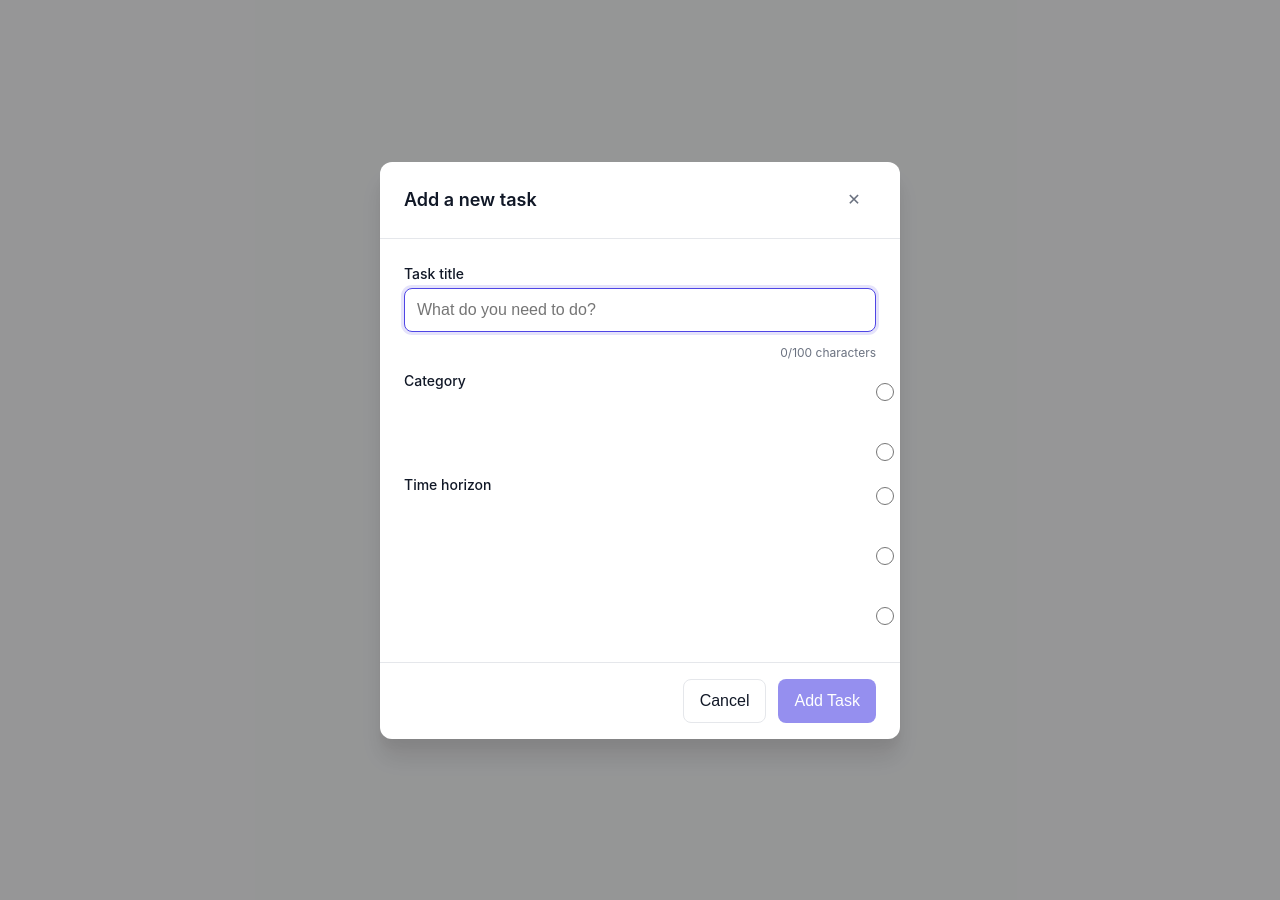
it: CreateTaskModal — submission › shows API error message on failure
Type "Test task title" into the field with placeholder "What do you need to do?". click: (640, 310)
box: [404,288,876,332]
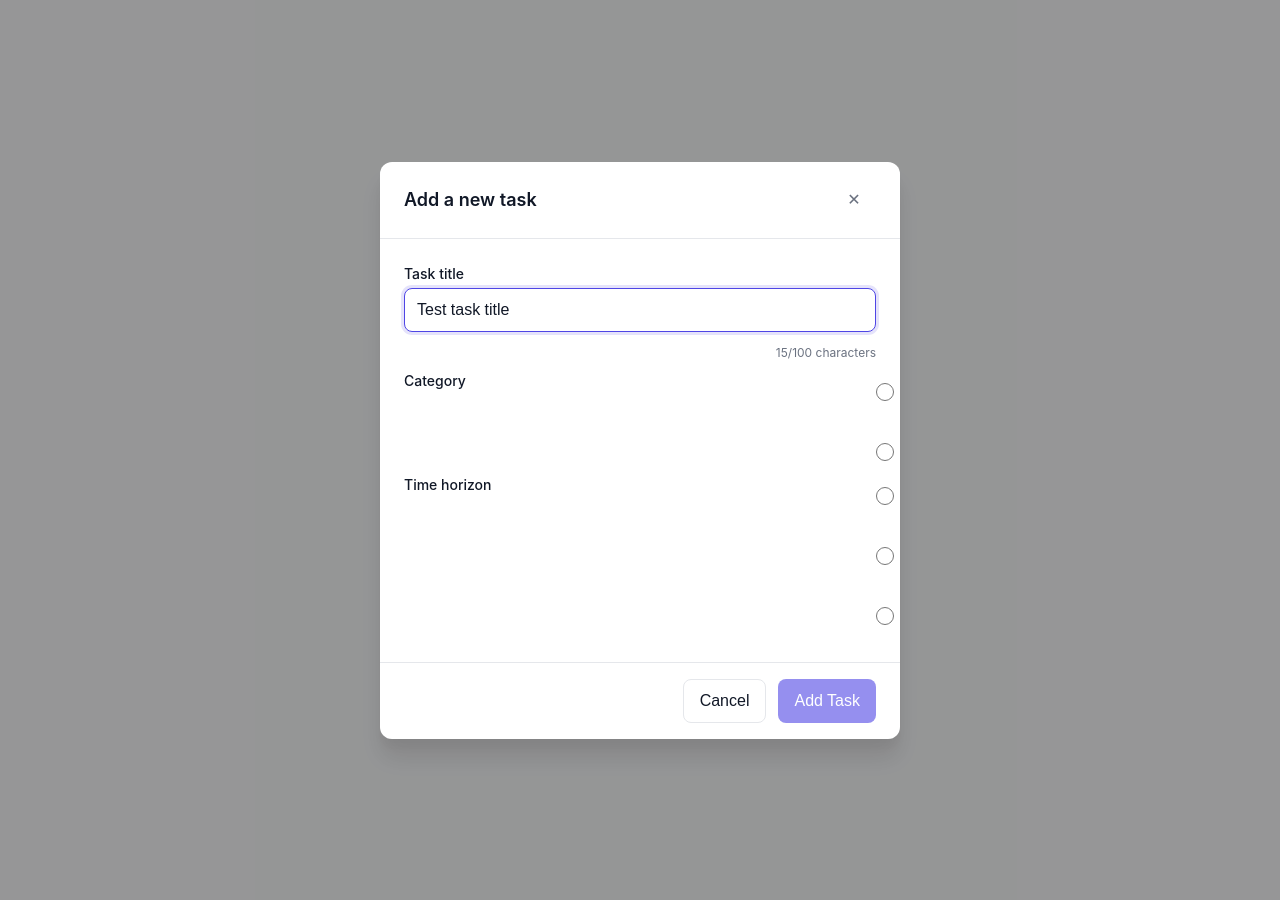
Click the radio button labelled "Personal". click: (885, 392)
box: [876,382,894,400]
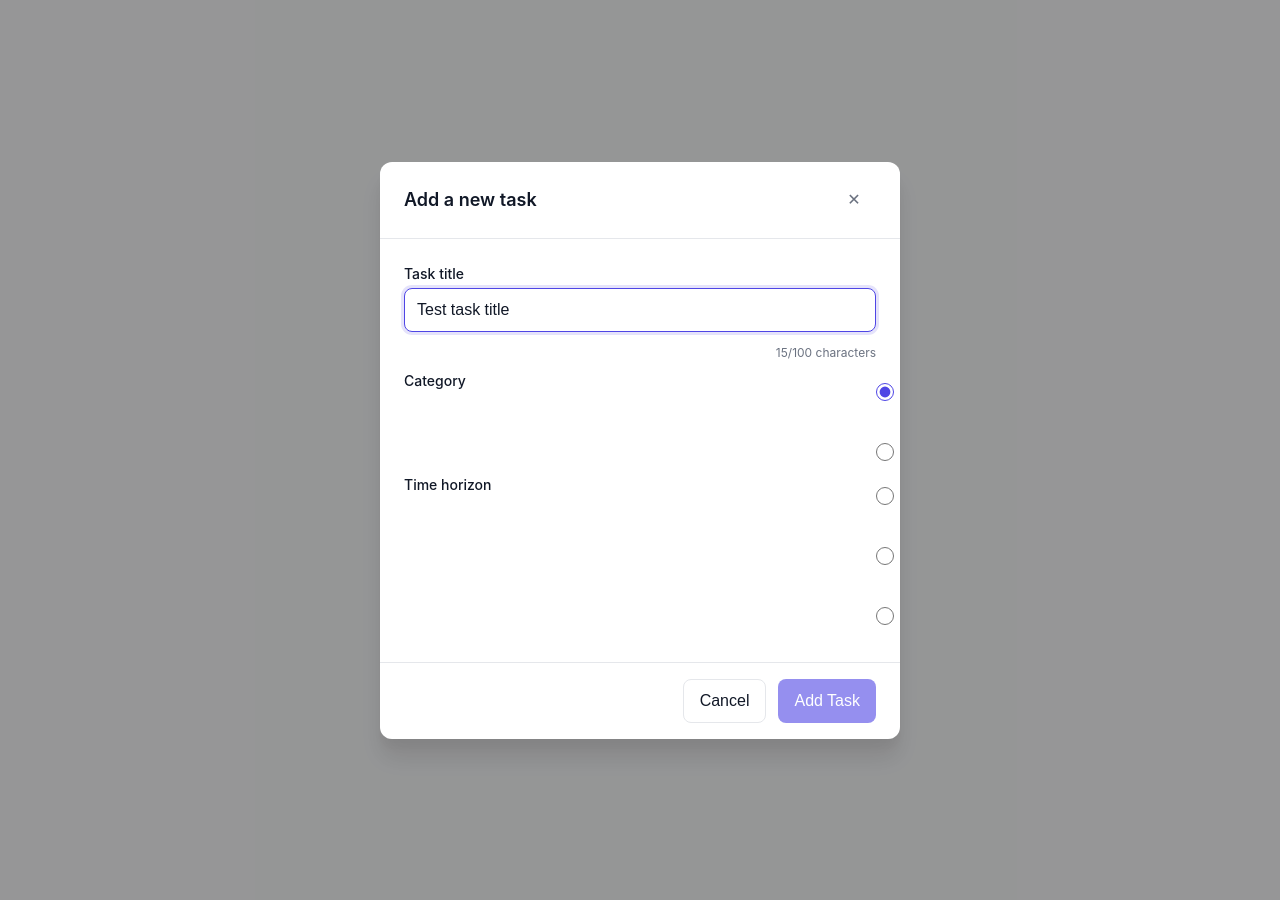
Click the radio button labelled "Daily". click: (885, 496)
box: [876,486,894,504]
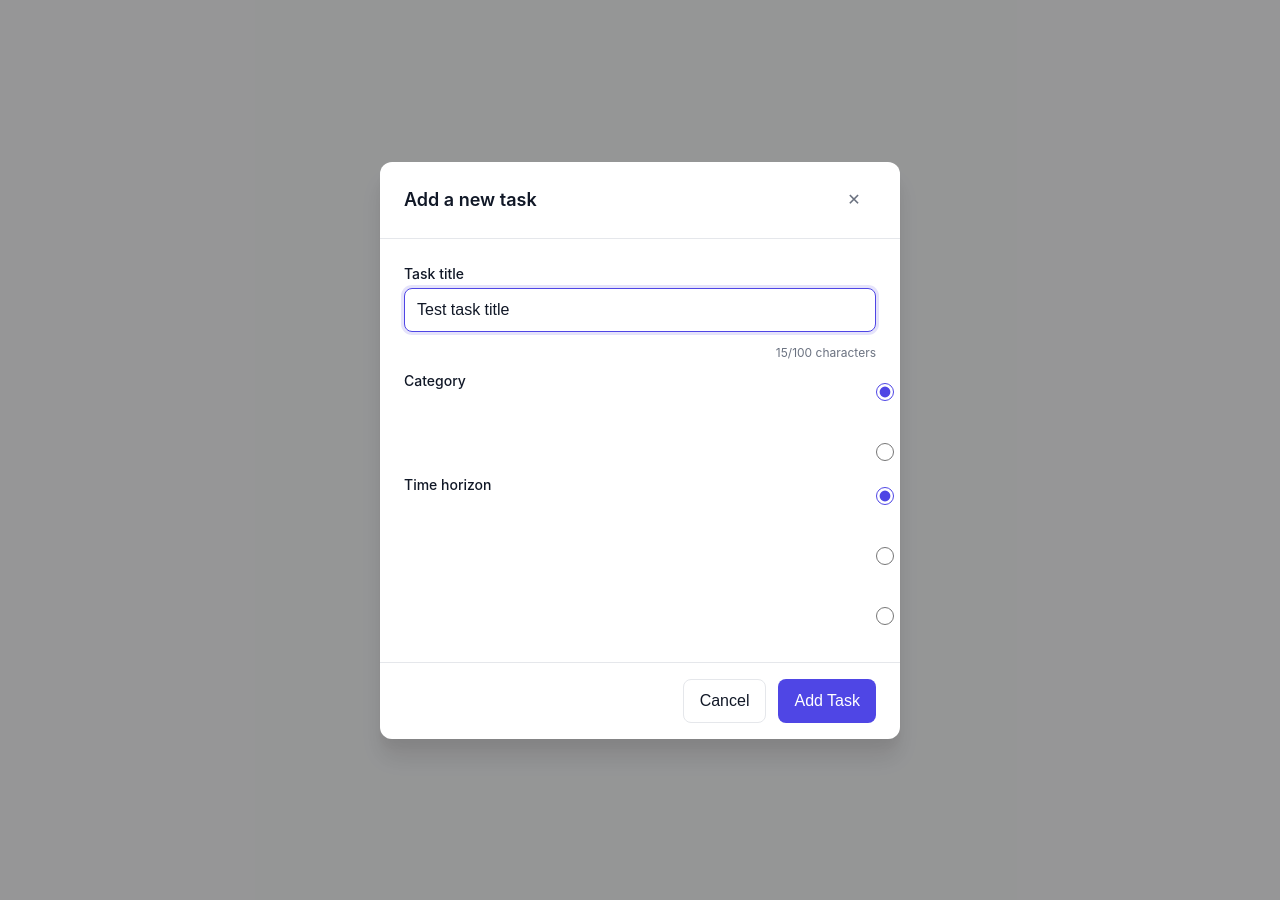
Click the button "Add Task". click: (827, 700)
box: [778,678,876,722]
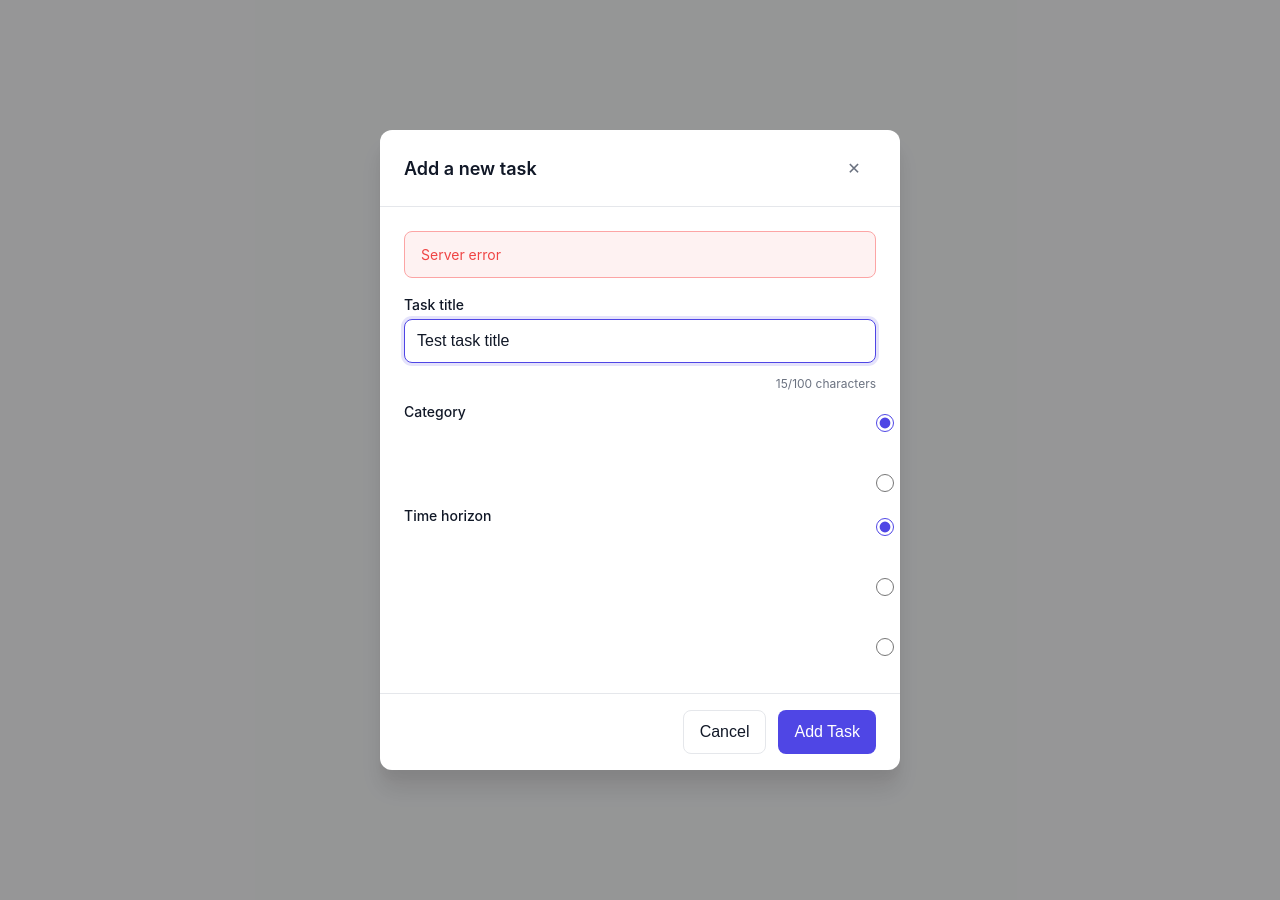
Expected: the message reads "Server error", [421,246,501,263]
